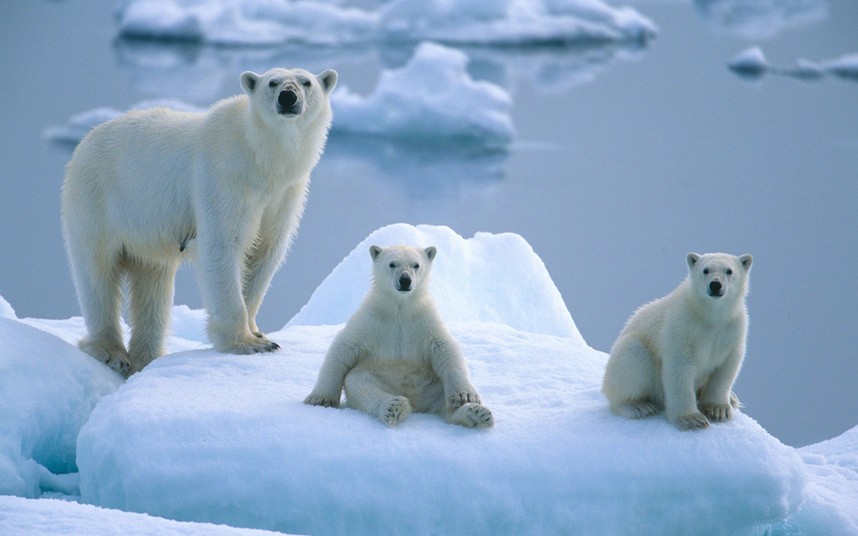Polar Bear: (28, 37, 348, 469), (583, 216, 830, 457), (310, 225, 496, 507)
